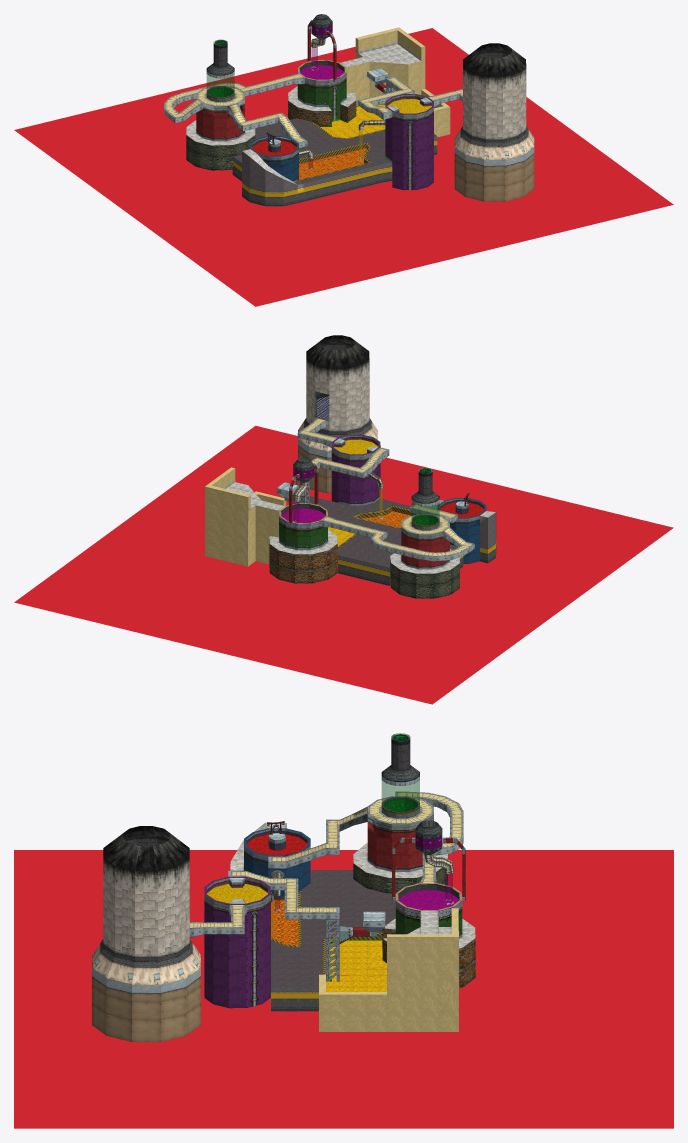
File: test-zone2.glb
The picture shows the model from 3 angles, top to bottom: view 1: azimuth 30°, elevation 25°; view 2: azimuth 150°, elevation 25°; view 3: azimuth 270°, elevation 25°; orthographic projection. The views are drawn at different scales.
Parts seen in each view (by area): view 1: DeathPlane, Frame_0.002, Frame_0.006; view 2: DeathPlane, Frame_0.002, Frame_0.006; view 3: DeathPlane, Frame_0.002, Frame_0.006.
Part boxes in pixels (box(x1,y1,x2,y2)): DeathPlane: box(14, 28, 673, 306); Frame_0.002: box(163, 14, 534, 206); Frame_0.006: box(252, 47, 431, 179); DeathPlane: box(14, 425, 673, 704); Frame_0.002: box(205, 335, 496, 598); Frame_0.006: box(281, 439, 484, 546); DeathPlane: box(14, 850, 673, 1128); Frame_0.002: box(92, 733, 475, 1041); Frame_0.006: box(207, 834, 459, 991).
Size of what is drawn, in the model's own units: 240 by 82.47 by 240.
Materials: 16 (15 with a texture image).
